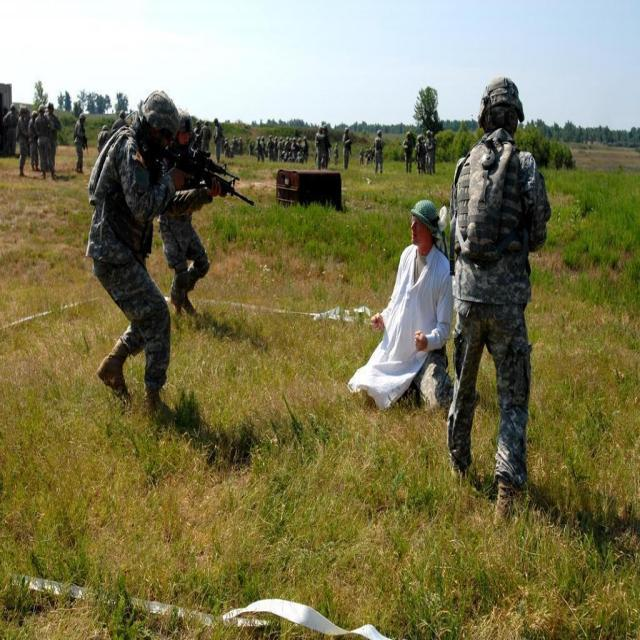Rifle: (146, 120, 242, 224), (177, 142, 240, 186)
